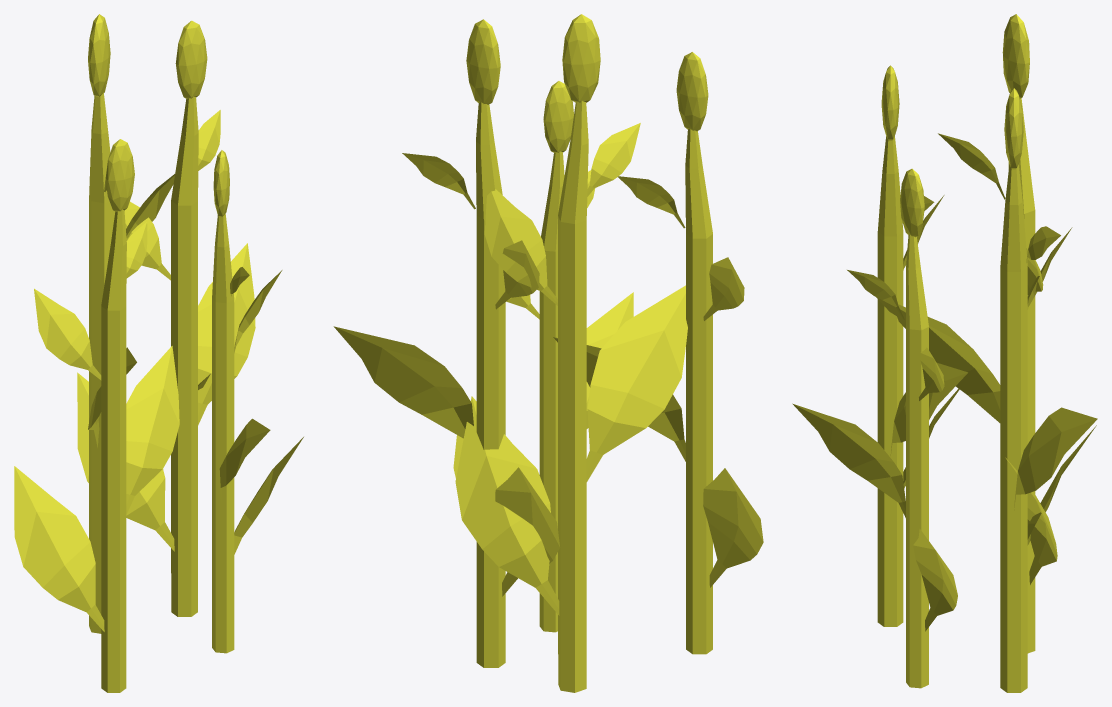
The model's file is wheat_seed_end.glb.
3 renders of one model, left to right at view 1: azimuth 30°, elevation 25°; view 2: azimuth 150°, elevation 25°; view 3: azimuth 270°, elevation 25°, orthographic. The views are drawn at different scales.
Parts seen in each view (by area): view 1: end; view 2: end; view 3: end.
Boxes of the visible parts, x1=… form: end: x1=14, y1=14, x2=303, y2=692; end: x1=333, y1=14, x2=763, y2=692; end: x1=792, y1=14, x2=1097, y2=692.
Bounding box in the file's own units: 1.55 × 2.93 × 1.29.
